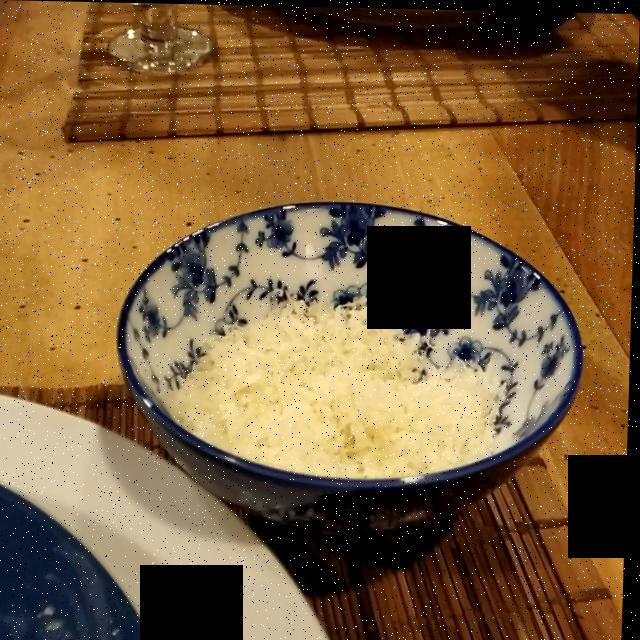cheese: (148, 285, 503, 481)
